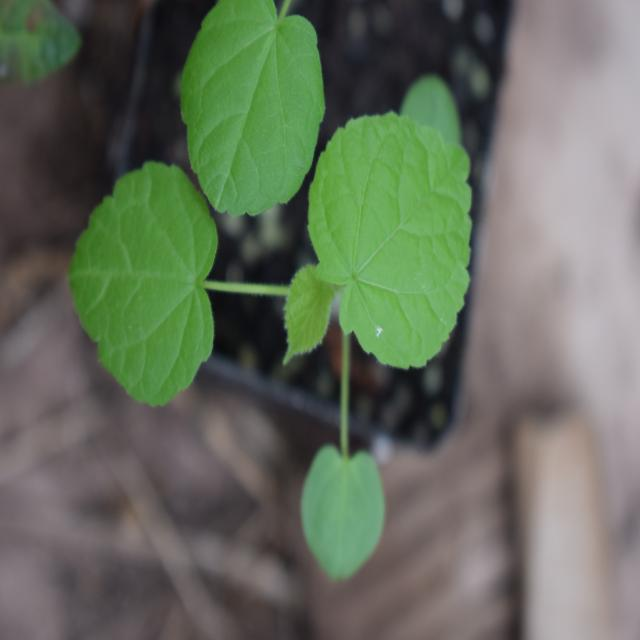abutilon theophrasti: (75, 61, 470, 549)
